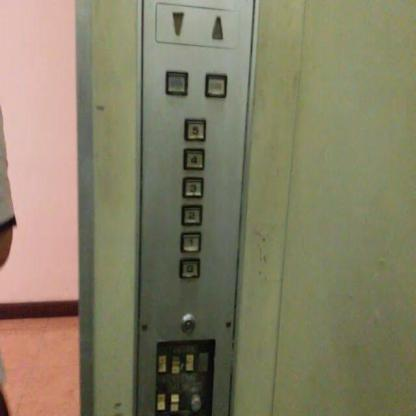1: (178, 229, 202, 252)
2: (180, 202, 202, 225)
3: (180, 174, 204, 198)
4: (181, 146, 204, 169)
5: (183, 117, 206, 141)
G: (178, 255, 200, 279)
blur: (155, 348, 167, 374)
switch: (183, 349, 194, 374), (170, 348, 180, 374), (197, 348, 207, 373), (155, 389, 166, 410), (169, 389, 179, 411)
text_blur: (164, 68, 188, 95), (204, 72, 228, 99)
